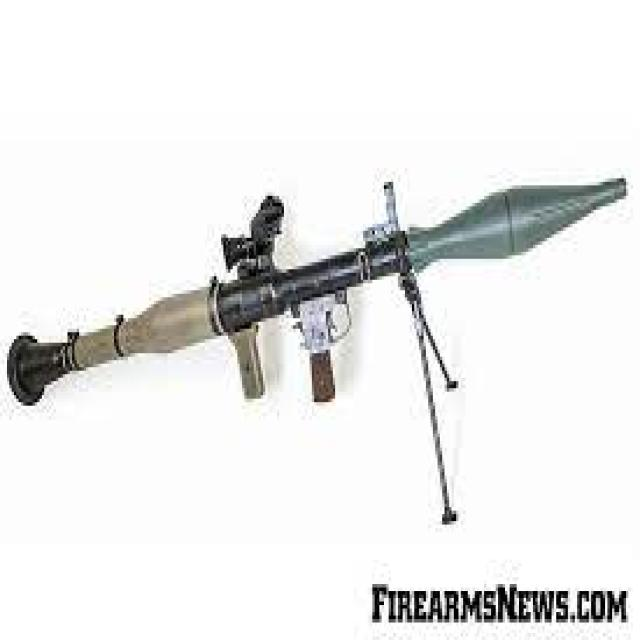Gun: (24, 164, 640, 502)
